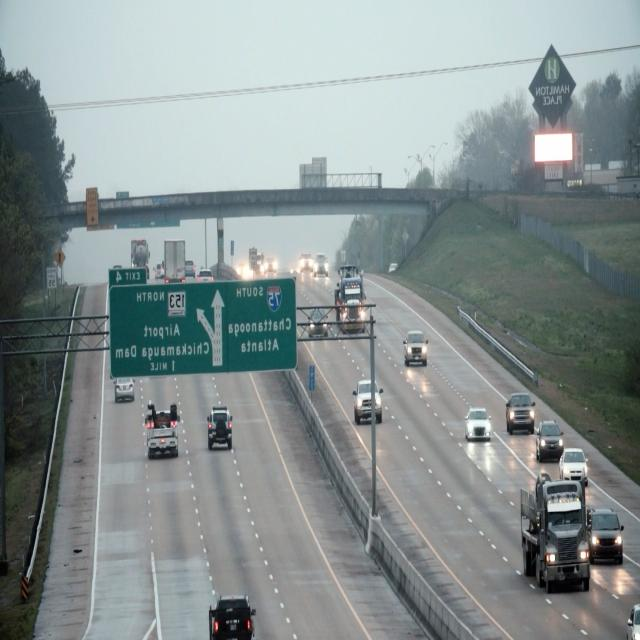Car: (514, 481, 590, 589), (205, 591, 255, 640), (585, 505, 624, 567), (146, 399, 180, 461), (335, 263, 366, 331), (351, 381, 384, 425), (506, 389, 536, 435), (535, 417, 564, 463), (557, 447, 588, 486), (206, 406, 235, 447), (460, 409, 492, 444), (400, 330, 430, 366), (303, 303, 330, 341)
